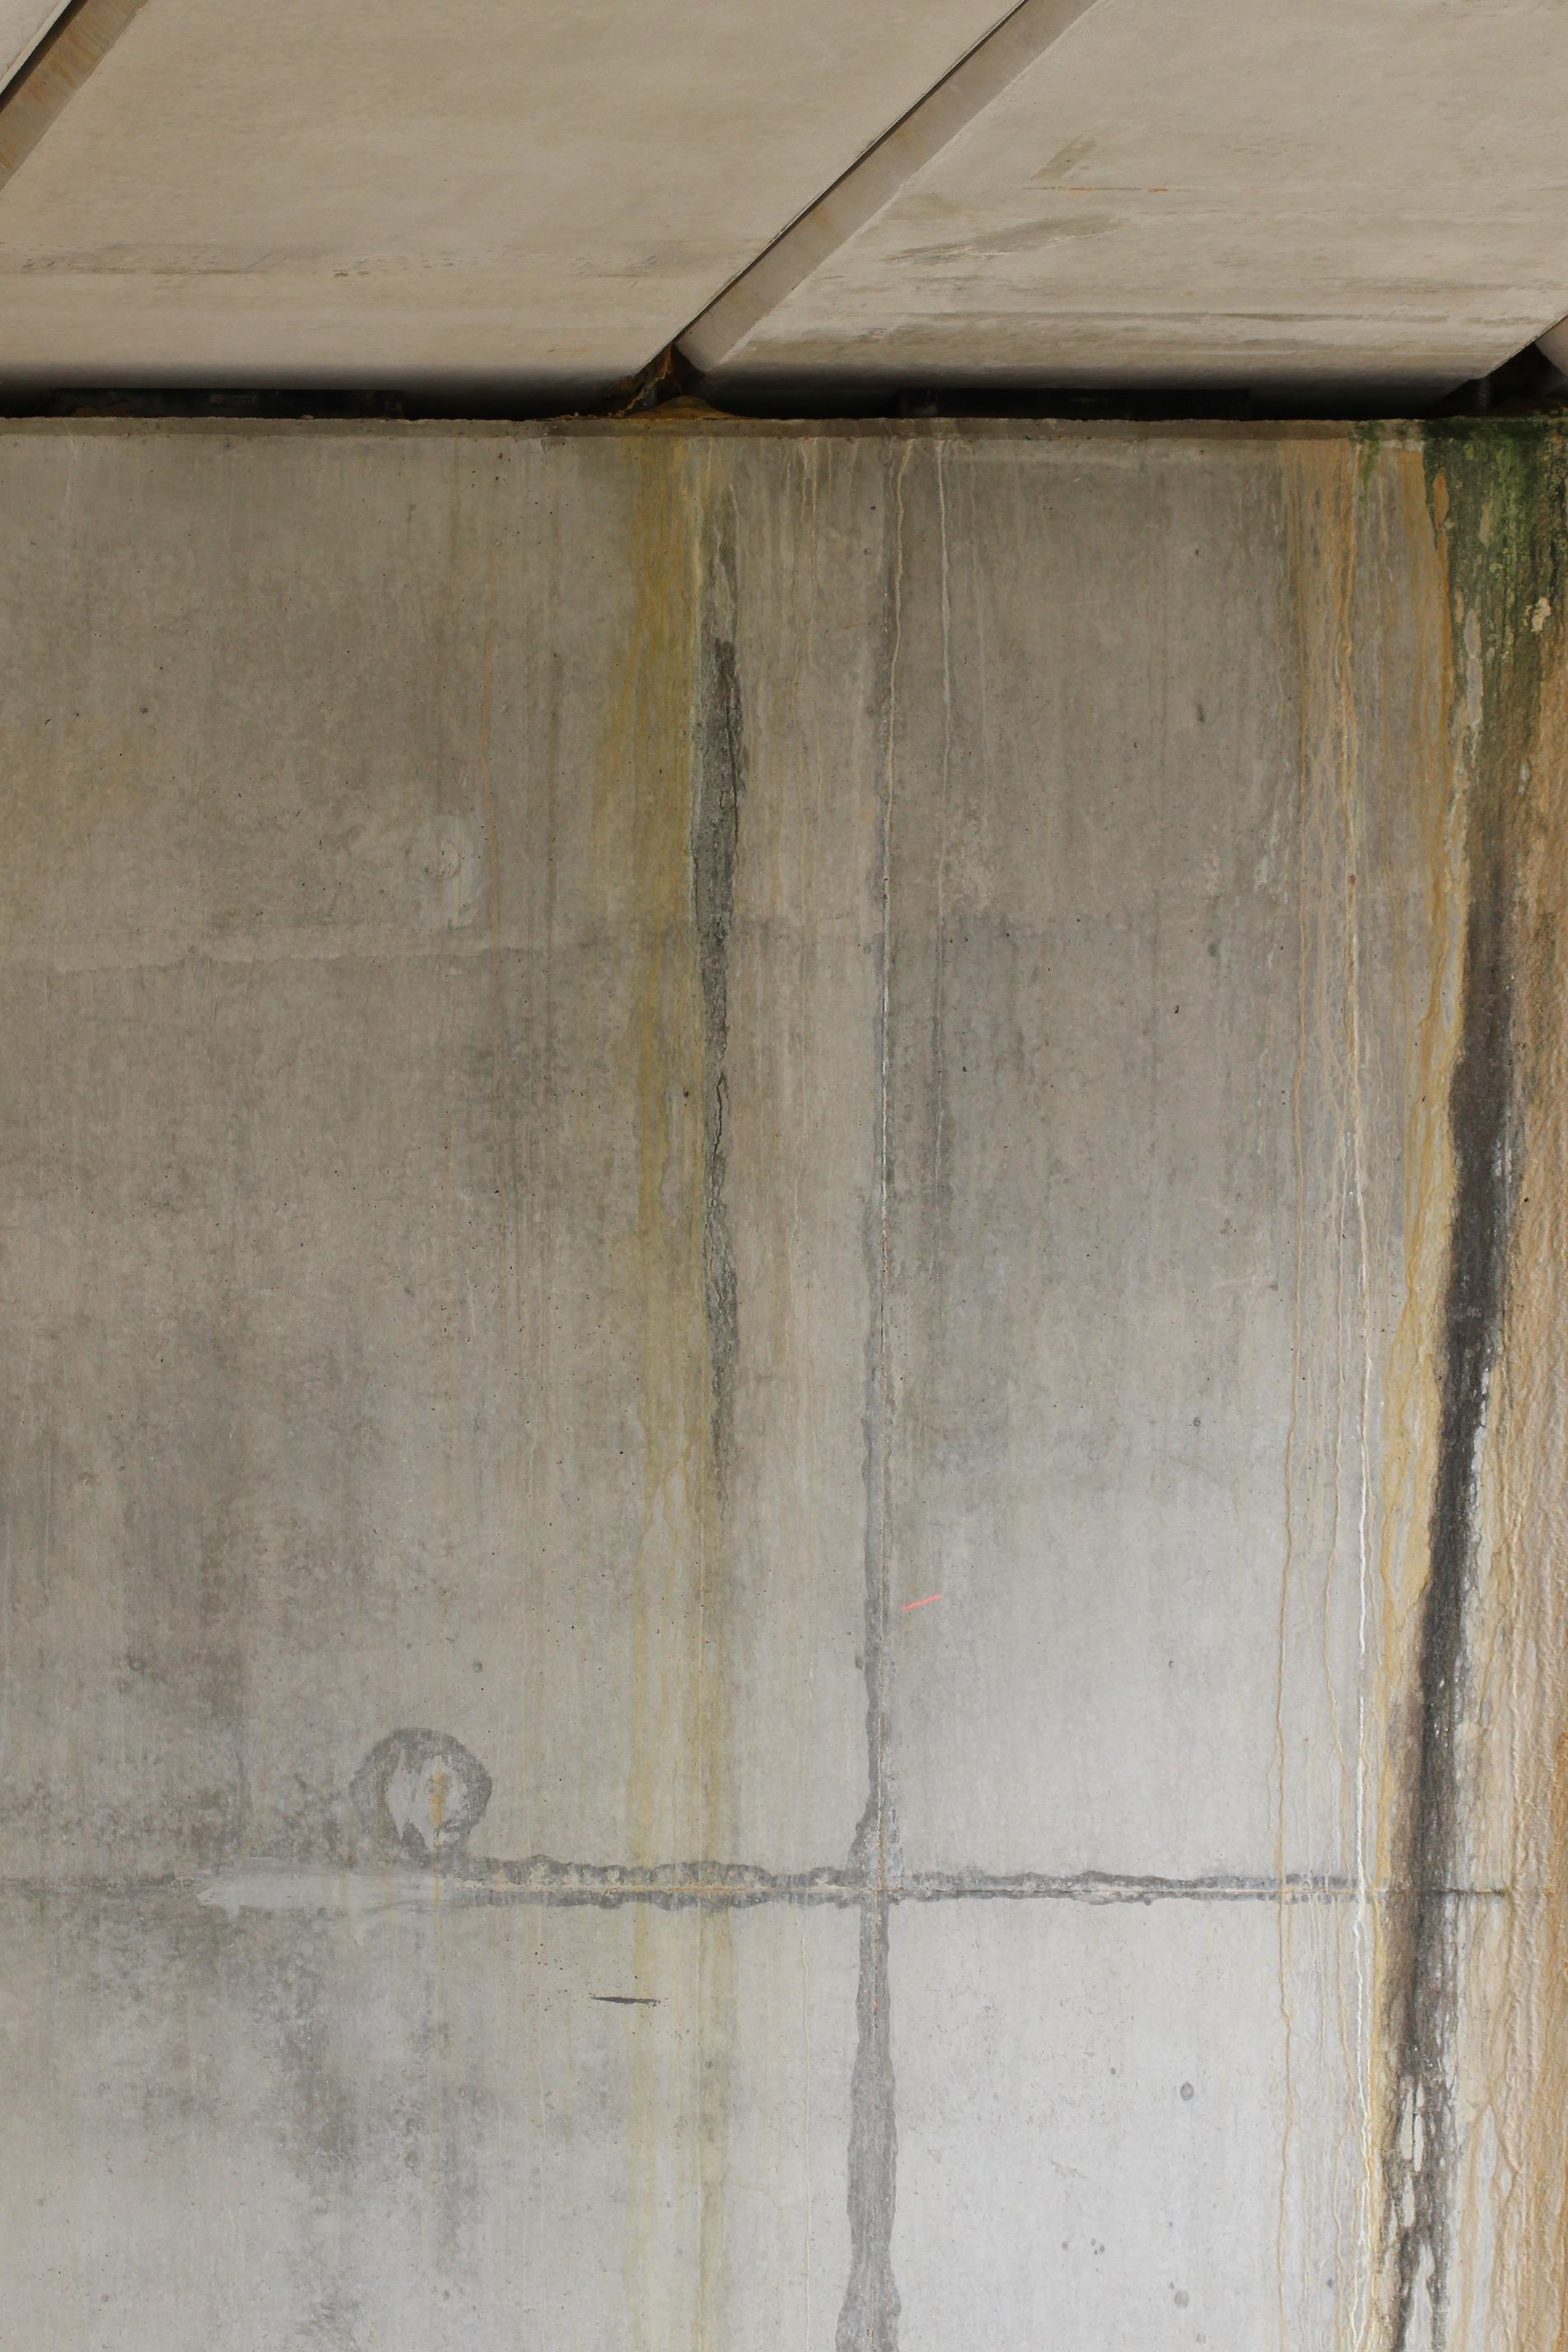Corrosion: (1284, 418, 1568, 2352), (584, 432, 745, 2352)
